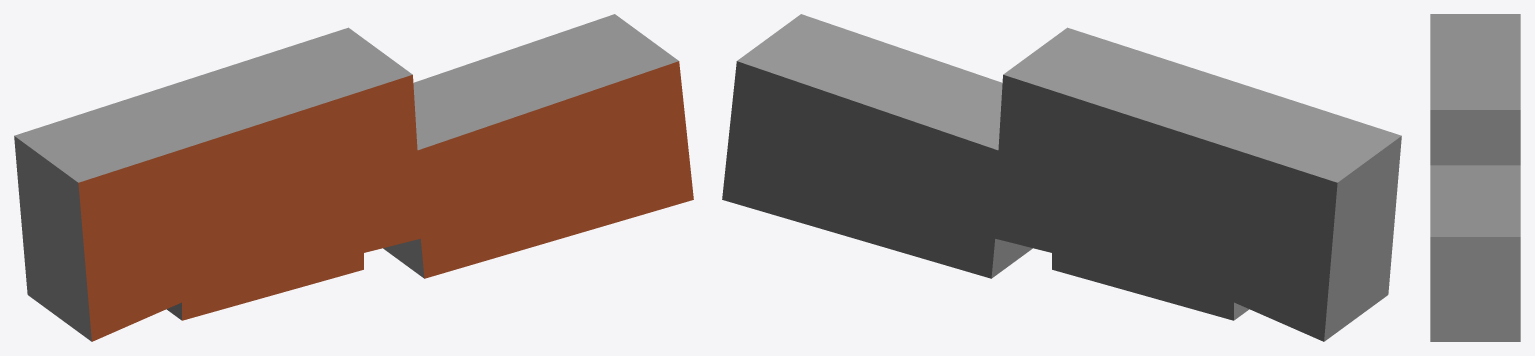
Rendered from construction_4827_assumed_A_Casa_h6m.obj.
3 renders of one model, left to right at view 1: azimuth 30°, elevation 25°; view 2: azimuth 150°, elevation 25°; view 3: azimuth 270°, elevation 25°, orthographic. The views are drawn at different scales.
Parts seen in each view (by area): view 1: construction_4827_assumed_A_Casa; view 2: construction_4827_assumed_A_Casa; view 3: construction_4827_assumed_A_Casa.
Part boxes in pixels (x1=…): construction_4827_assumed_A_Casa: x1=14, y1=14, x2=693, y2=341; construction_4827_assumed_A_Casa: x1=722, y1=14, x2=1401, y2=341; construction_4827_assumed_A_Casa: x1=1430, y1=14, x2=1520, y2=341.
Size of the model in its own units: 33.15 by 10.65 by 6.
